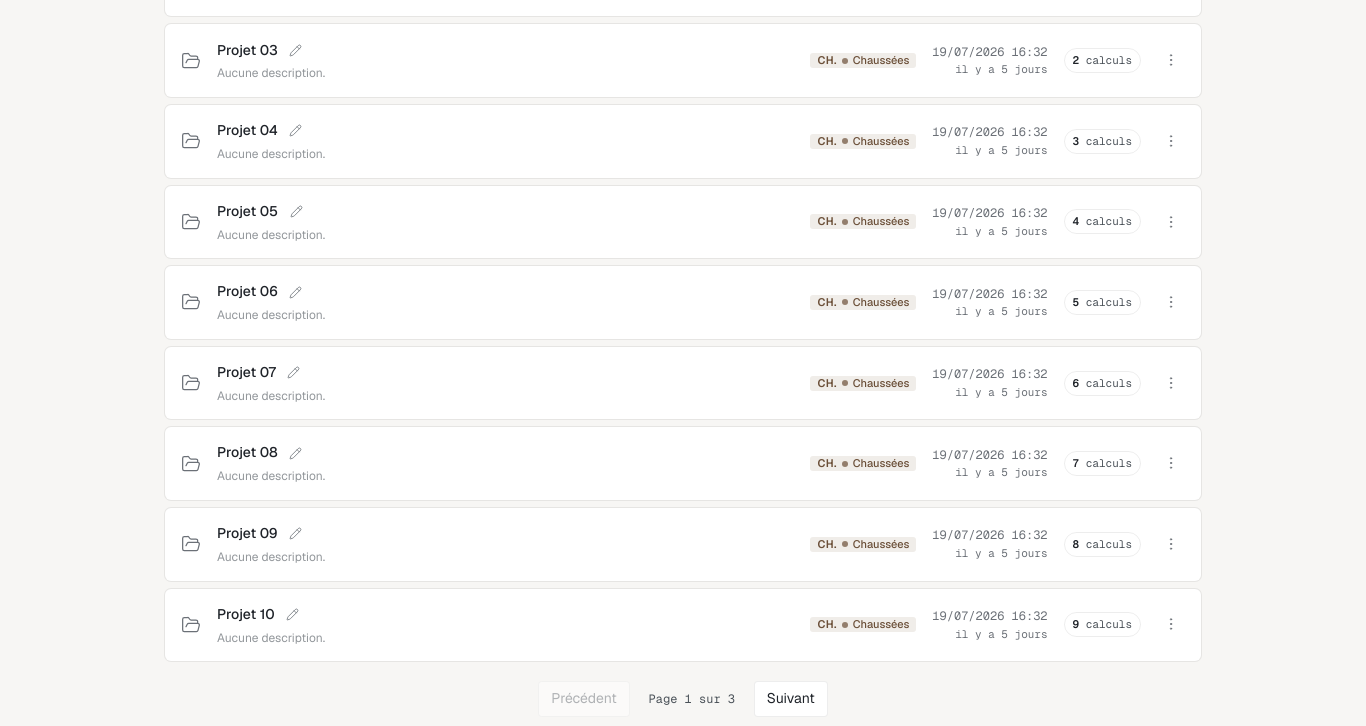
Liste des projets — pagination › #3 GIVEN la page 2 (25 projets) — WHEN un filtre de domaine réduit la liste sous une page — THEN les contrôles de pagination disparaissent et on revient à la pa
(page scrolled)
Click the button with aria-label "Page suivante": [791, 699] box [754,681,828,717]
(page scrolled)
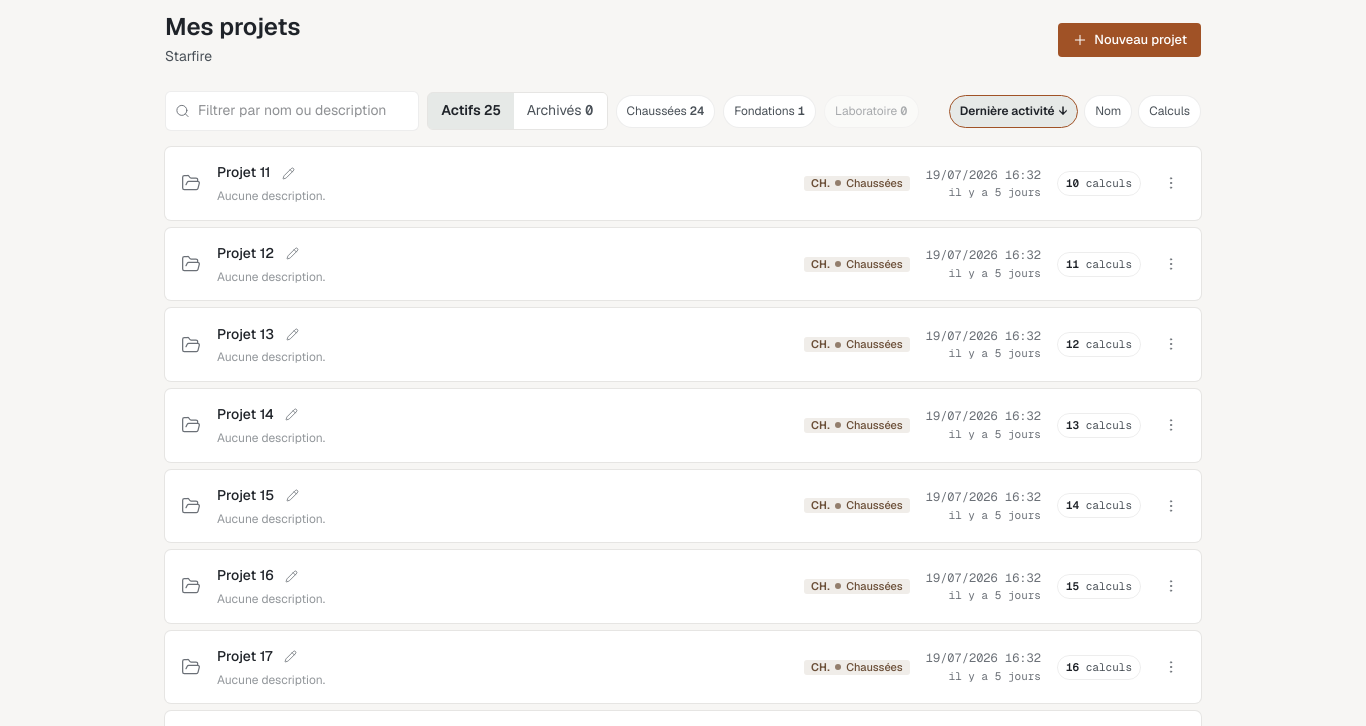
Click the button "Fondations 1": [770, 111] box [723,95,816,128]
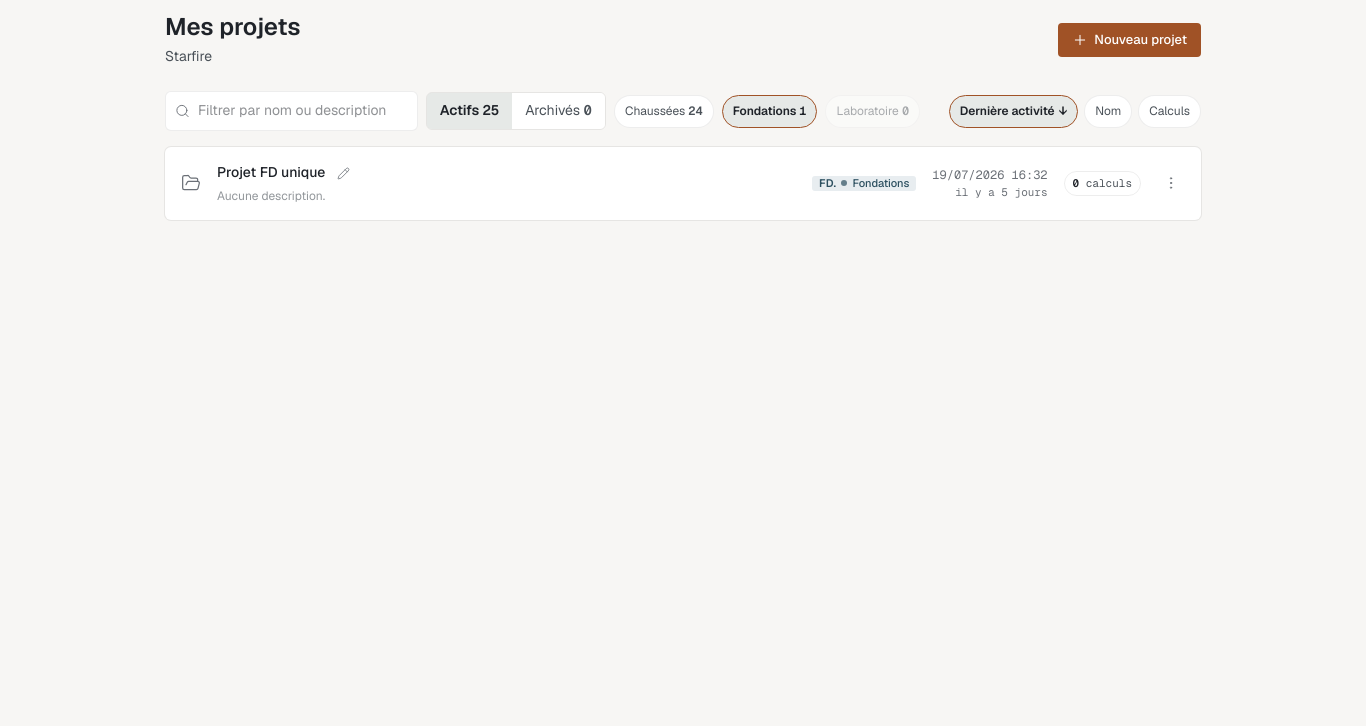
Expected: the list item with aria-label "Projet Projet FD unique" shows "Projet FD unique", [217,163,325,181]
